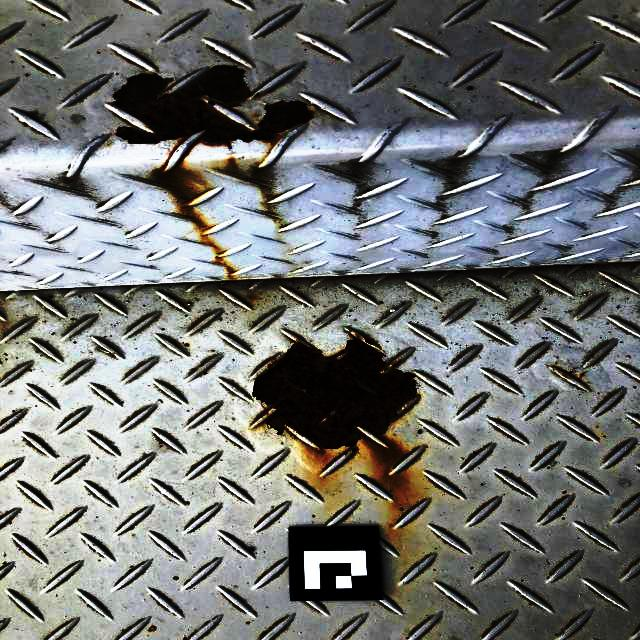Corrosion: (252, 329, 419, 464), (112, 64, 315, 160), (552, 366, 578, 378), (578, 371, 588, 378), (249, 296, 254, 299)
